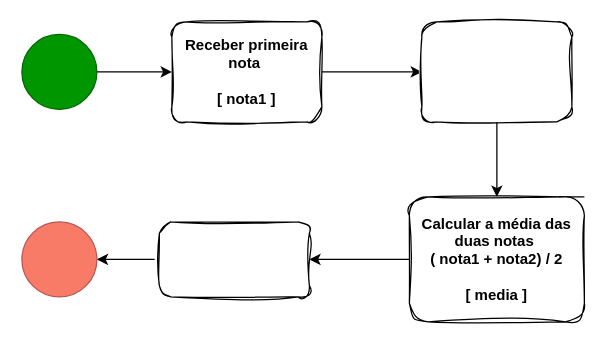
Some shapes in this 616 by 344 pixel diagram are drawn without their labels. Here are the shapes that lost their labels. From the top down, the centre of each, then its label:
At point (496, 71): "Receber segunda nota [ nota2 ]".
At point (233, 259): "Exibir a média".
